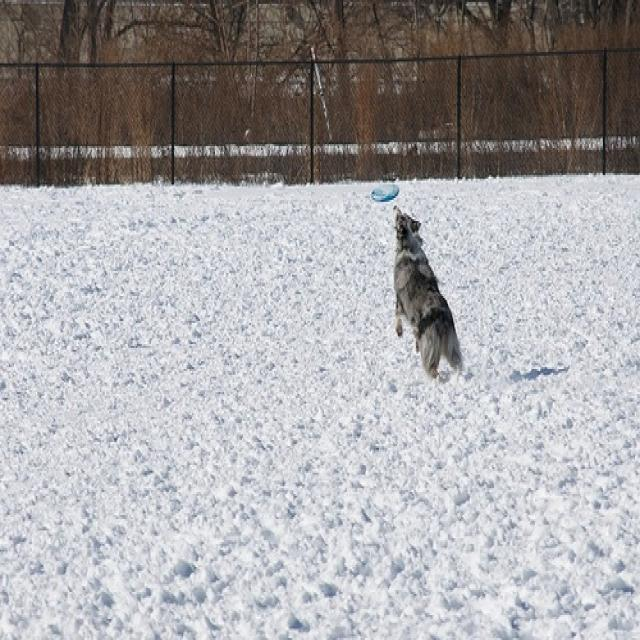dog: (392, 202, 464, 378)
